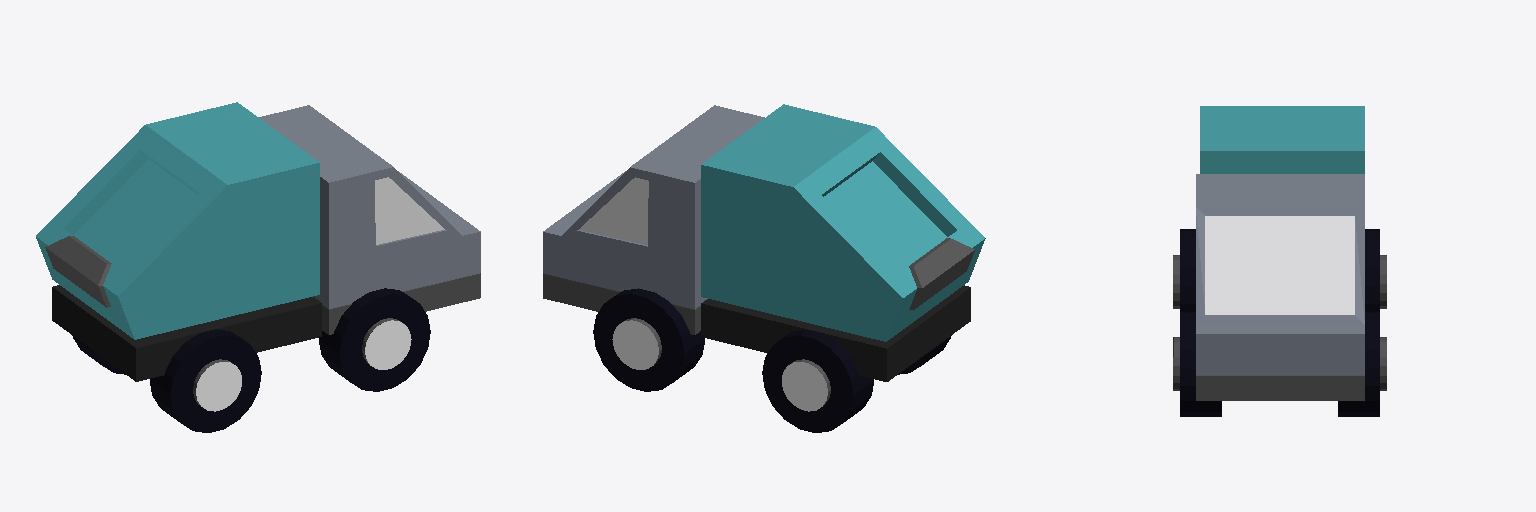
The picture shows the model from 3 angles: view 1: azimuth 30°, elevation 25°; view 2: azimuth 150°, elevation 25°; view 3: azimuth 270°, elevation 25°; orthographic projection.
Visible parts, largest first — view 1: Box068; view 2: Box068; view 3: Box068.
Part boxes in pixels (left/top/right/bottom): Box068: left=36, top=102, right=480, bottom=432; Box068: left=543, top=104, right=985, bottom=432; Box068: left=1173, top=106, right=1386, bottom=416.
Bounding box in the file's own units: 336 × 205 × 170.
Materials: 1 (1 with a texture image).